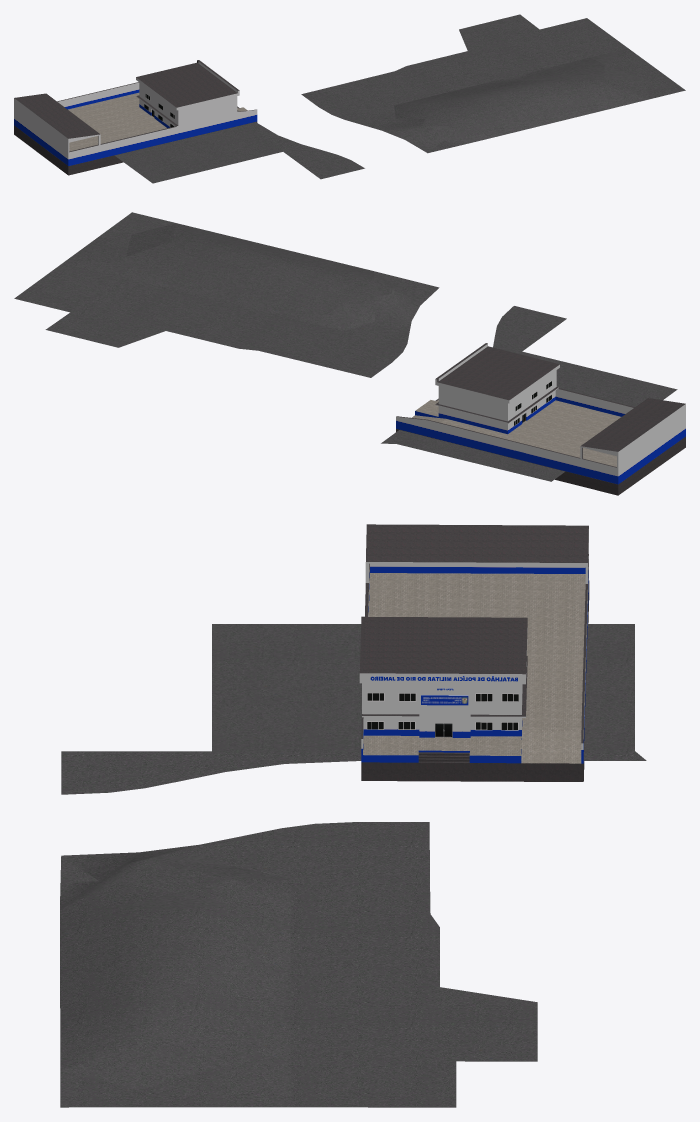
The model's file is lae2_ground05.obj.
3 renders of one model, top to bottom at view 1: azimuth 30°, elevation 25°; view 2: azimuth 150°, elevation 25°; view 3: azimuth 270°, elevation 25°, orthographic. The views are drawn at different scales.
Parts seen in each view (by area): view 1: lae2_ground05; view 2: lae2_ground05; view 3: lae2_ground05.
Part boxes in pixels (bbox=[...]): lae2_ground05: bbox=[14, 14, 685, 183]; lae2_ground05: bbox=[14, 212, 685, 495]; lae2_ground05: bbox=[60, 524, 646, 1107].
Bounding box in the file's own units: 174 × 13.79 × 82.58.
Materials: 11 (8 with a texture image).
